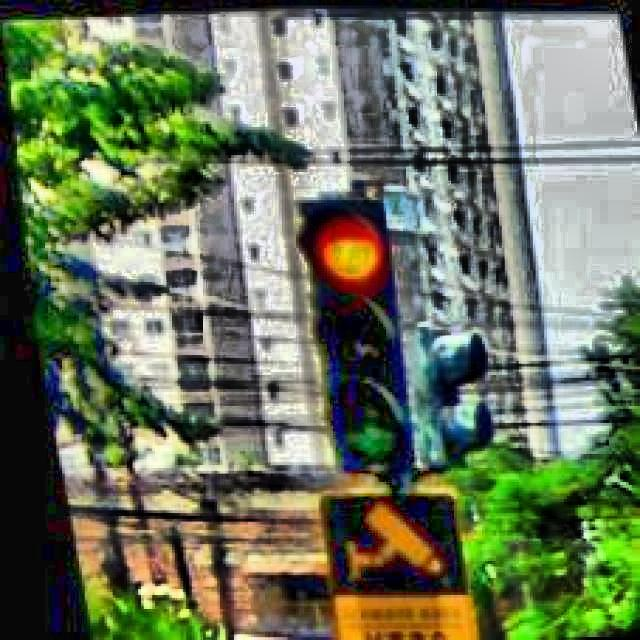red: (302, 198, 426, 478)
